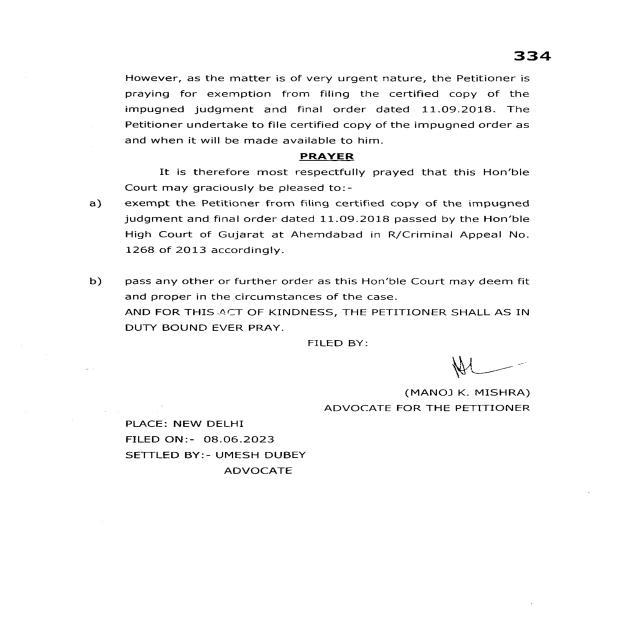page-number: (401, 0, 640, 72)
